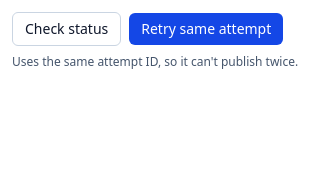
Test: PublicationActions › unconfirmed › Retry same attempt resends the SAME operationId and reads Retrying… meanwhile
Click the button "Retry same attempt" at [206, 29], box [129,13,283,45]
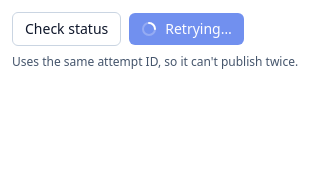
Now the button "Retrying…" is disabled, box [129,13,244,45]
